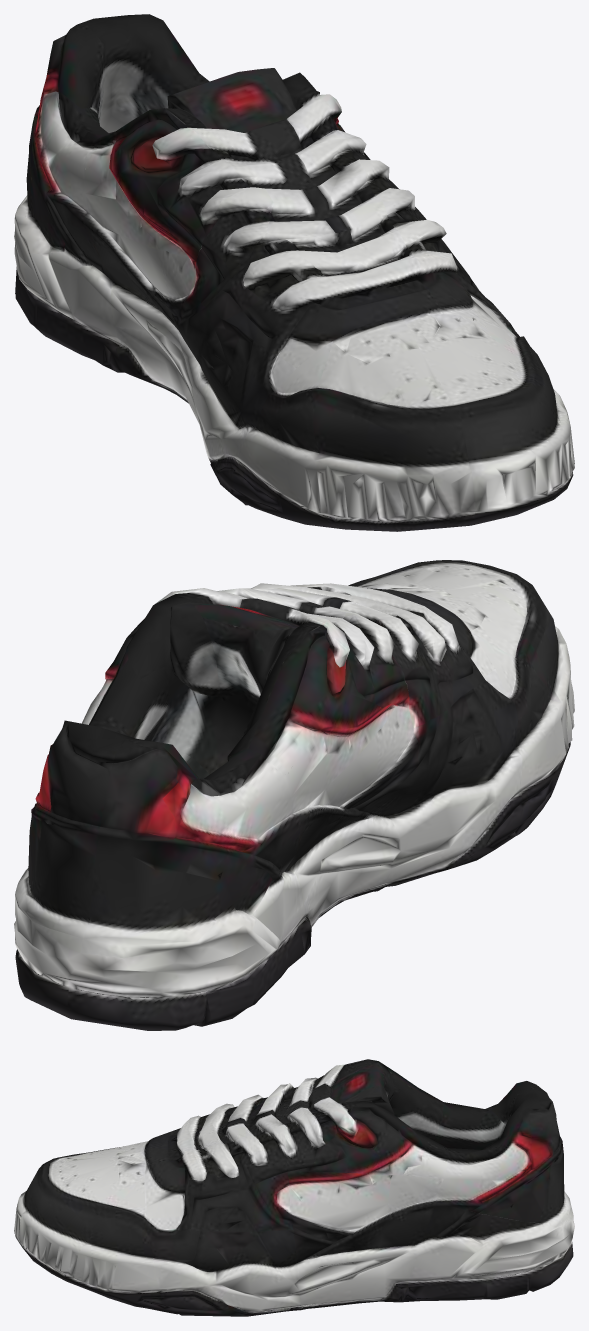
The model's file is mens-red-black-casual-sneakers-1.glb.
3 views of the same model, one above another, from view 1: azimuth 30°, elevation 25°; view 2: azimuth 150°, elevation 25°; view 3: azimuth 270°, elevation 25° (orthographic). The views are drawn at different scales.
Parts seen in each view (by area): view 1: tripo_node_825bbe17-4c52-4ce4-8532-96ae36ef6904; view 2: tripo_node_825bbe17-4c52-4ce4-8532-96ae36ef6904; view 3: tripo_node_825bbe17-4c52-4ce4-8532-96ae36ef6904.
Boxes of the visible parts, x1,y1,x2,y2 form: tripo_node_825bbe17-4c52-4ce4-8532-96ae36ef6904: [14, 14, 574, 531]; tripo_node_825bbe17-4c52-4ce4-8532-96ae36ef6904: [14, 560, 574, 1030]; tripo_node_825bbe17-4c52-4ce4-8532-96ae36ef6904: [14, 1059, 574, 1316].
Bounding box in the file's own units: 0.4077 × 0.3843 × 0.9988.
1 material, 1 textured.
